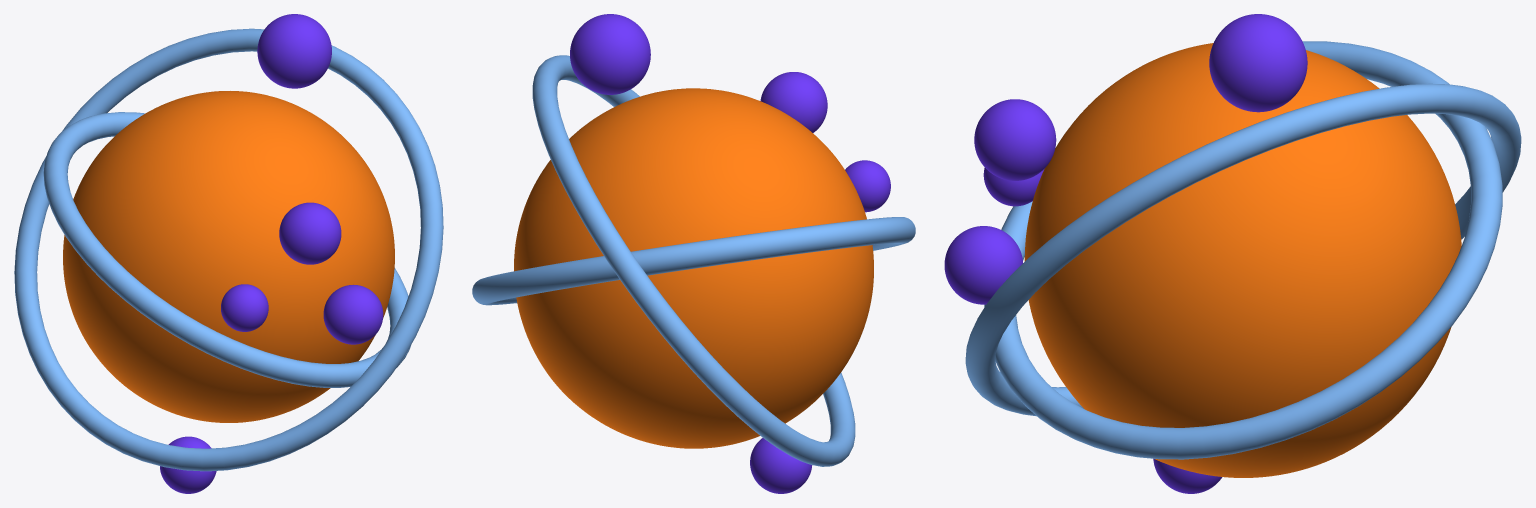
The model's file is planet-3.glb.
3 views of the same model, side by side, from view 1: azimuth 30°, elevation 25°; view 2: azimuth 150°, elevation 25°; view 3: azimuth 270°, elevation 25° (orthographic). The views are drawn at different scales.
Parts seen in each view (by area): view 1: Roundcube, BezierCircle.001, BezierCircle, Roundcube.004, Roundcube.003, Roundcube.001, Roundcube.002, Roundcube.005; view 2: Roundcube, BezierCircle.001, BezierCircle, Roundcube.004, Roundcube.003, Roundcube.005, Roundcube.002; view 3: Roundcube, BezierCircle, BezierCircle.001, Roundcube.004, Roundcube.003, Roundcube.001, Roundcube.002, Roundcube.005.
Part boxes in pixels (x1=…): Roundcube: x1=63, y1=91, x2=394, y2=422; BezierCircle.001: x1=14, y1=28, x2=443, y2=471; BezierCircle: x1=43, y1=112, x2=410, y2=387; Roundcube.004: x1=257, y1=14, x2=331, y2=88; Roundcube.003: x1=279, y1=202, x2=341, y2=264; Roundcube.001: x1=323, y1=284, x2=383, y2=344; Roundcube.002: x1=221, y1=284, x2=268, y2=331; Roundcube.005: x1=160, y1=436, x2=216, y2=493; Roundcube: x1=514, y1=88, x2=873, y2=448; BezierCircle.001: x1=532, y1=55, x2=855, y2=466; BezierCircle: x1=472, y1=217, x2=915, y2=305; Roundcube.004: x1=570, y1=14, x2=650, y2=94; Roundcube.003: x1=760, y1=72, x2=827, y2=132; Roundcube.005: x1=750, y1=438, x2=812, y2=493; Roundcube.002: x1=845, y1=160, x2=890, y2=212; Roundcube: x1=1024, y1=43, x2=1461, y2=477; BezierCircle: x1=984, y1=41, x2=1502, y2=459; BezierCircle.001: x1=965, y1=83, x2=1521, y2=416; Roundcube.004: x1=1209, y1=14, x2=1307, y2=112; Roundcube.003: x1=974, y1=99, x2=1056, y2=180; Roundcube.001: x1=944, y1=226, x2=1022, y2=304; Roundcube.002: x1=983, y1=167, x2=1044, y2=206; Roundcube.005: x1=1153, y1=458, x2=1222, y2=493.
Size of the model in its own units: 2.32 by 2.78 by 2.61.
